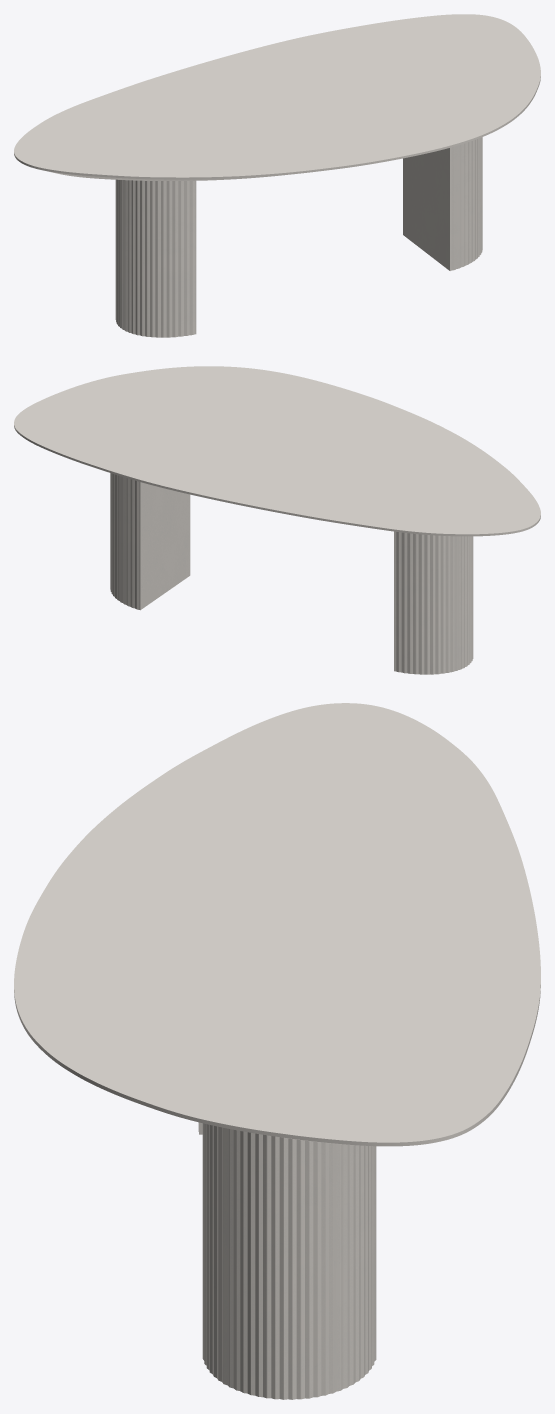
File: purewhite_pebbletop_facet_flute.glb
3 renders of one model, top to bottom at view 1: azimuth 30°, elevation 25°; view 2: azimuth 150°, elevation 25°; view 3: azimuth 270°, elevation 25°, orthographic. The views are drawn at different scales.
Visible parts, largest first — view 1: facet_pebbletop, flute; view 2: facet_pebbletop, flute; view 3: facet_pebbletop, flute.
Part boxes in pixels (<box>): facet_pebbletop: <box>14,14,540,180</box>; flute: <box>115,137,482,337</box>; facet_pebbletop: <box>14,366,540,536</box>; flute: <box>110,473,473,674</box>; facet_pebbletop: <box>14,703,540,1146</box>; flute: <box>198,1122,376,1399</box>.
Size of the model in its own units: 7.5 by 2.5 by 3.8.
1 material, 1 textured.
